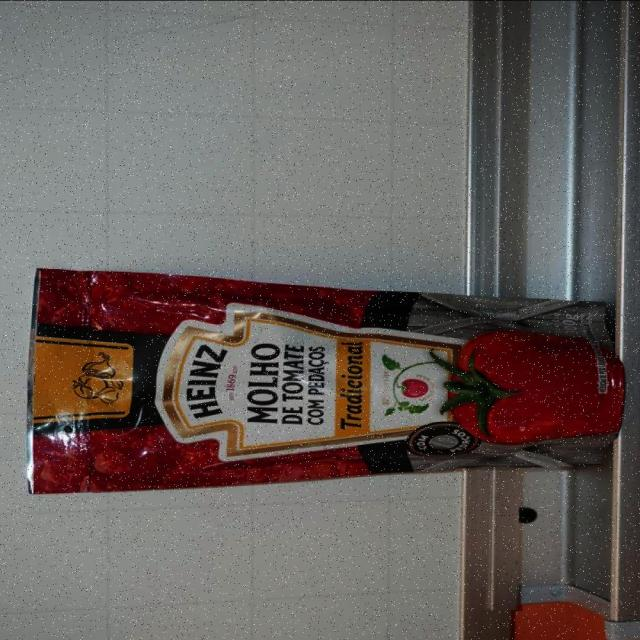TomatoSauce: (29, 267, 628, 493)
